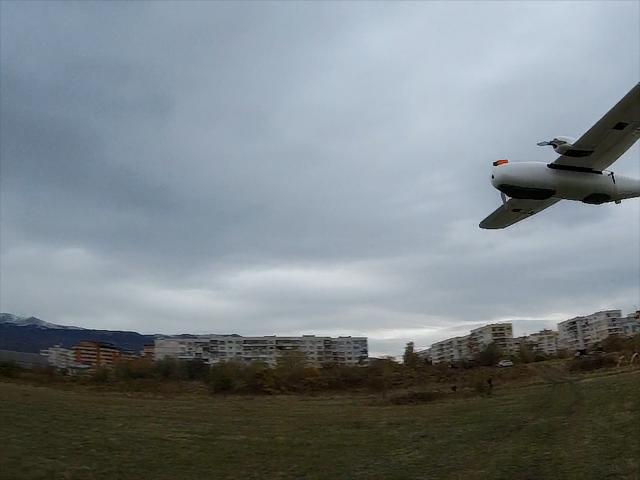plane: (478, 82, 640, 237)
